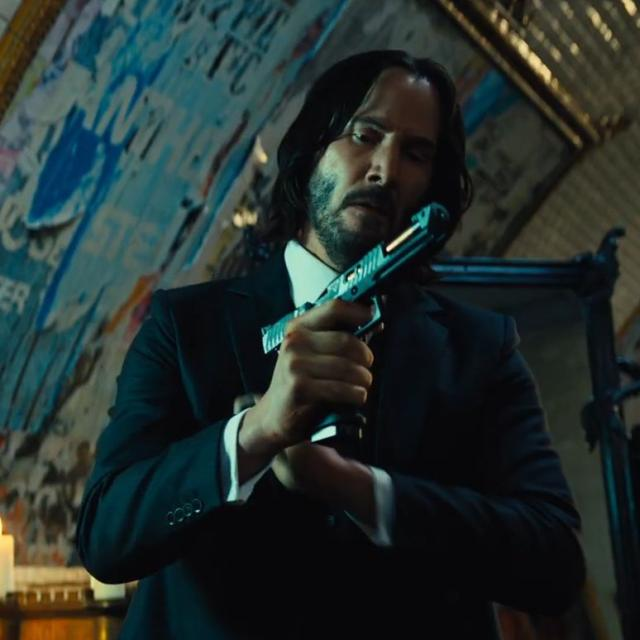weapons: (222, 200, 486, 414)
